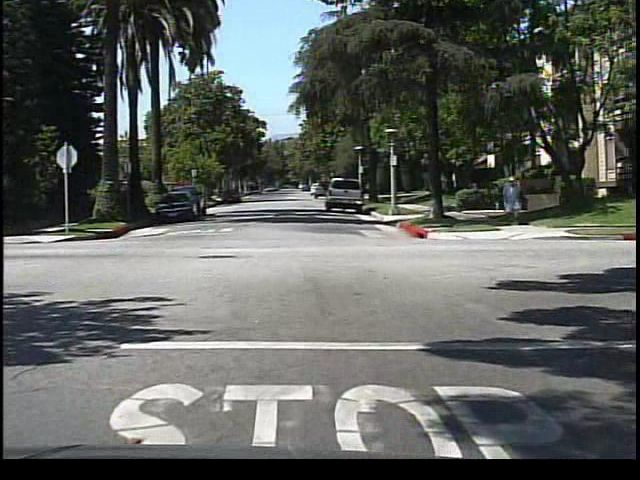person: (497, 172, 526, 228)
